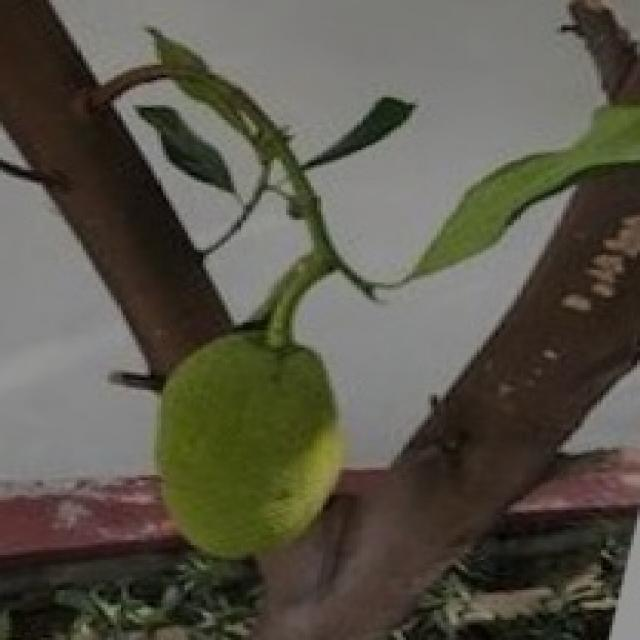Fruit: (114, 310, 381, 585)
